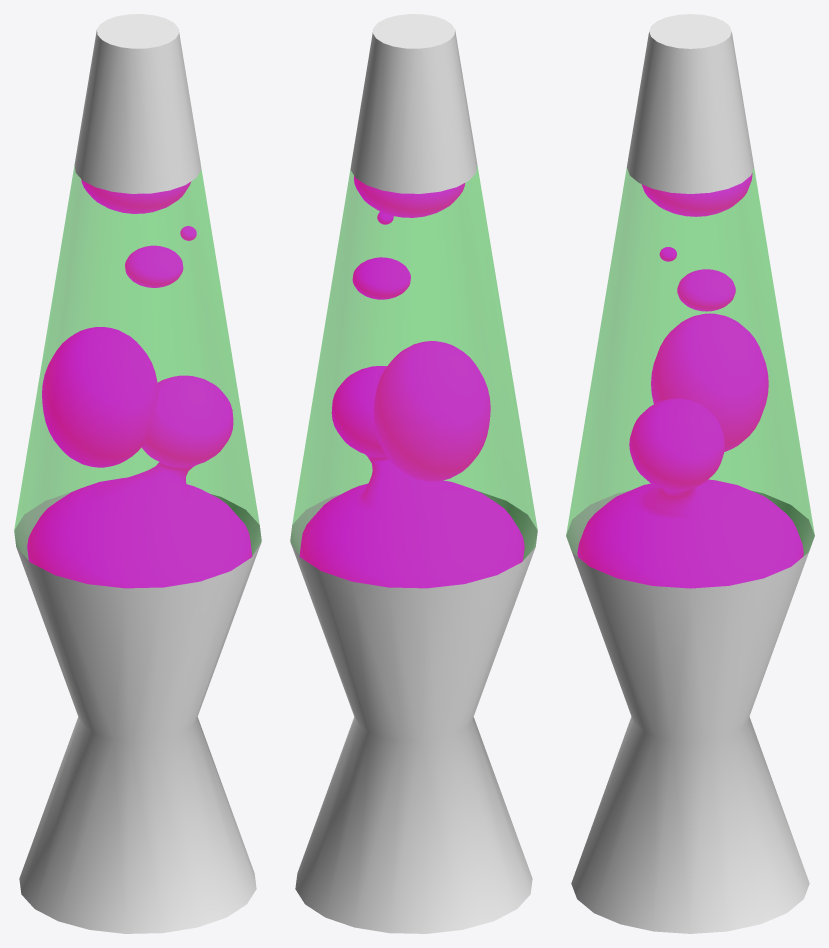
File: lavalamp.glb
3 views of the same model, side by side, from view 1: azimuth 30°, elevation 25°; view 2: azimuth 150°, elevation 25°; view 3: azimuth 270°, elevation 25° (orthographic).
Parts seen in each view (by area): view 1: S_lavalamp_A_EHH_01; view 2: S_lavalamp_A_EHH_01; view 3: S_lavalamp_A_EHH_01.
Part boxes in pixels (box(x1,y1,x2,y2)): S_lavalamp_A_EHH_01: box(14, 14, 261, 933); S_lavalamp_A_EHH_01: box(290, 14, 537, 933); S_lavalamp_A_EHH_01: box(566, 14, 814, 933).
Size of the model in its own units: 0.1197 by 0.4523 by 0.1197.
Materials: 3 (1 with a texture image).
